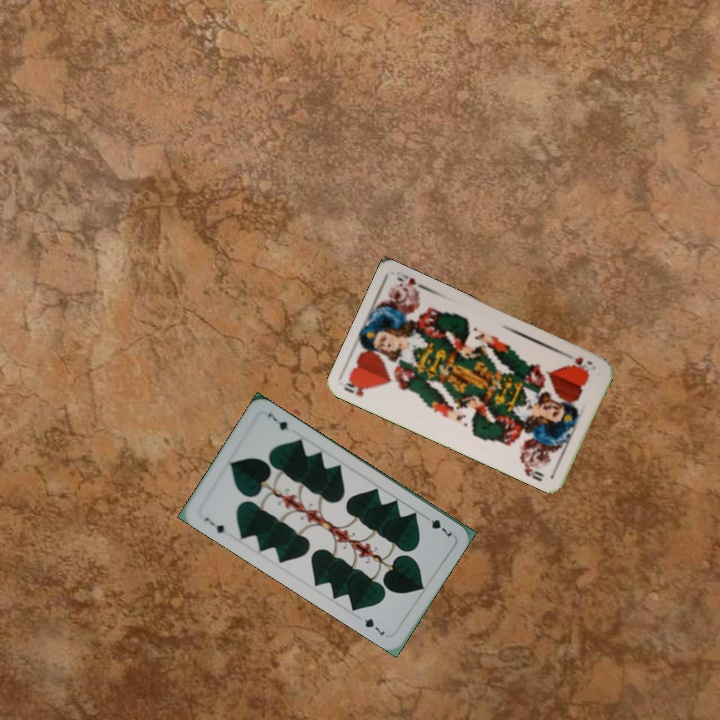G7: (419, 511, 455, 540), (200, 513, 228, 536)
HO: (340, 376, 371, 399), (569, 353, 595, 374)
